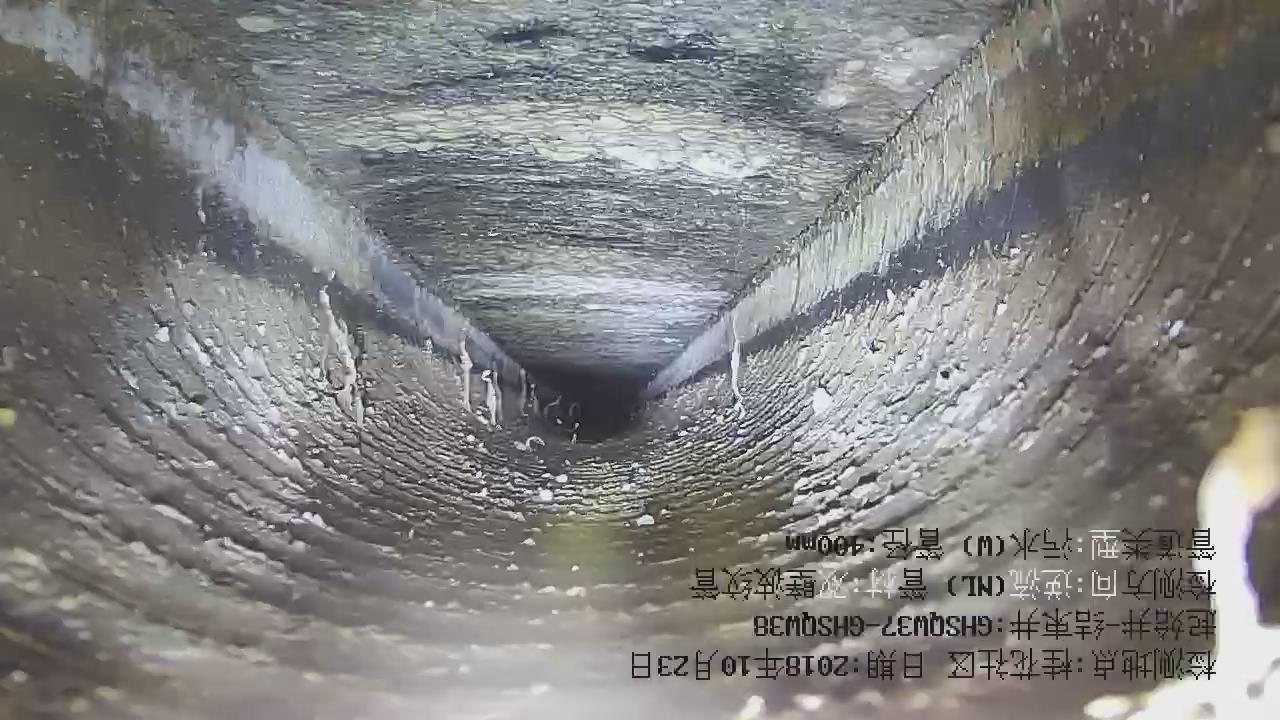FZ: (154, 1, 1001, 396)
JG: (1, 1, 1280, 720)
